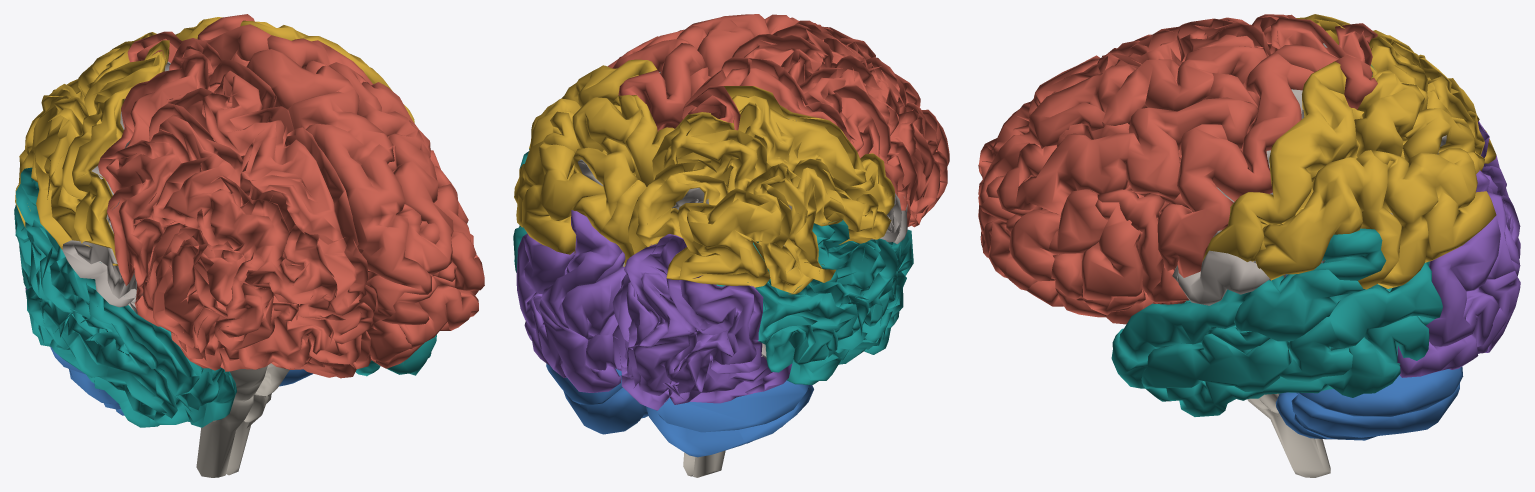
The model's file is cerebro.glb.
3 views of the same model, side by side, from view 1: azimuth 30°, elevation 25°; view 2: azimuth 150°, elevation 25°; view 3: azimuth 270°, elevation 25° (orthographic). The views are drawn at different scales.
Visible parts, largest first — view 1: cerebro; view 2: cerebro; view 3: cerebro.
Boxes of the visible parts, x1,y1,x2,y2 form: cerebro: (14, 14, 484, 477); cerebro: (513, 14, 949, 477); cerebro: (978, 14, 1520, 477).
Bounding box in the file's own units: 0.7624 × 0.8898 × 1.
